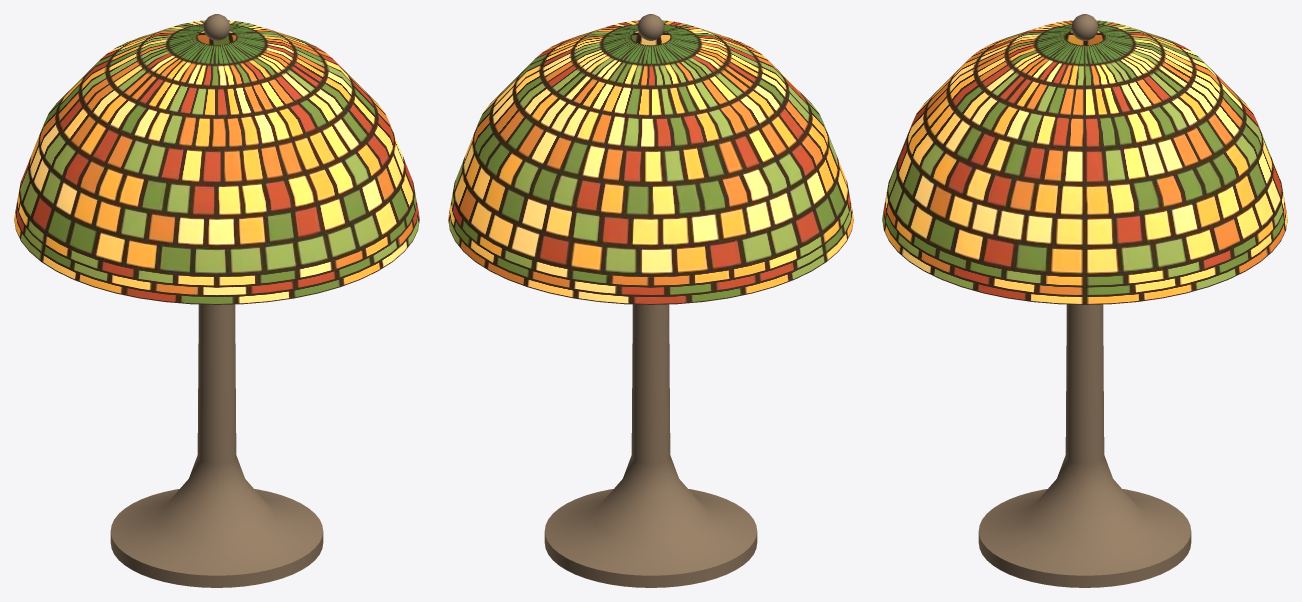
The model's file is obj-lamp-stained-glass.glb.
3 renders of one model, left to right at view 1: azimuth 30°, elevation 25°; view 2: azimuth 150°, elevation 25°; view 3: azimuth 270°, elevation 25°, orthographic.
Parts seen in each view (by area): view 1: obj-lamp-stained-glass; view 2: obj-lamp-stained-glass; view 3: obj-lamp-stained-glass.
Part boxes in pixels (x1,y1,x2,y2): obj-lamp-stained-glass: [14, 14, 419, 587]; obj-lamp-stained-glass: [448, 14, 853, 587]; obj-lamp-stained-glass: [882, 14, 1287, 587].
Size of the model in its own units: 0.42 by 0.603 by 0.42.
2 materials, 1 textured.
